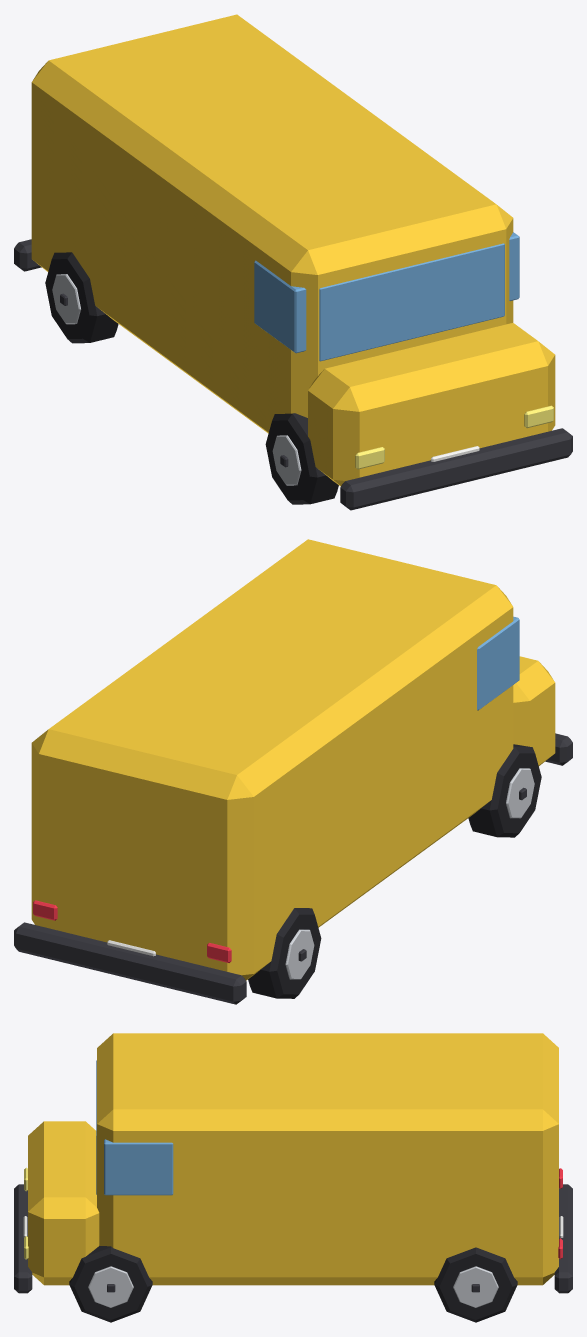
File: YellowVan.fbx
3 views of the same model, one above another, from view 1: azimuth 30°, elevation 25°; view 2: azimuth 150°, elevation 25°; view 3: azimuth 270°, elevation 25° (orthographic). The views are drawn at different scales.
Parts seen in each view (by area): view 1: YellowVan, YellowVan_WheelFR, YellowVan_WheelBR; view 2: YellowVan, YellowVan_WheelFR, YellowVan_WheelBR; view 3: YellowVan, YellowVan_WheelFL, YellowVan_WheelBL.
Boxes of the visible parts, box(x1,y1,x2,y2) form: YellowVan: box(14, 14, 572, 510); YellowVan_WheelFR: box(265, 413, 338, 504); YellowVan_WheelBR: box(45, 252, 118, 343); YellowVan: box(14, 539, 572, 1004); YellowVan_WheelFR: box(468, 744, 541, 837); YellowVan_WheelBR: box(248, 908, 321, 998); YellowVan: box(14, 1033, 572, 1293); YellowVan_WheelFL: box(69, 1245, 152, 1322); YellowVan_WheelBL: box(434, 1247, 517, 1322).
Bounding box in the file's own units: 5.02 × 4.93 × 12.1.
Materials: 1 (1 with a texture image).
